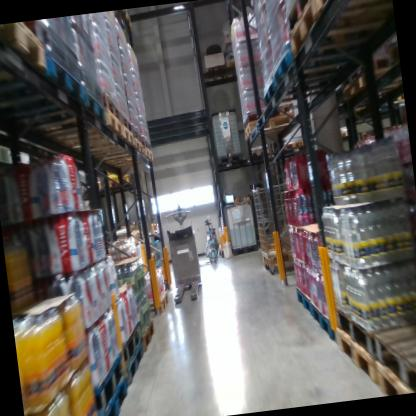pallet: (0, 45, 89, 131), (332, 286, 416, 372), (272, 0, 394, 53), (248, 39, 360, 87), (26, 101, 128, 150), (255, 68, 359, 111), (325, 312, 378, 389), (372, 320, 416, 394), (53, 117, 134, 154), (79, 352, 126, 412), (0, 25, 50, 80), (68, 133, 145, 163), (342, 51, 394, 94), (239, 111, 302, 144), (372, 351, 412, 395), (97, 144, 158, 172), (240, 100, 298, 128), (98, 372, 133, 416), (306, 294, 335, 346), (116, 319, 144, 361), (259, 242, 300, 270), (315, 0, 387, 14), (124, 340, 147, 379), (293, 284, 313, 325), (136, 316, 155, 355), (103, 173, 141, 192), (200, 58, 226, 84), (109, 10, 139, 32), (80, 174, 107, 197), (219, 51, 239, 79), (103, 92, 121, 122), (213, 152, 243, 169), (246, 147, 271, 164), (283, 136, 305, 152), (131, 125, 145, 147), (119, 113, 132, 132), (143, 137, 153, 152)
pallet_truck: (153, 195, 219, 320)
